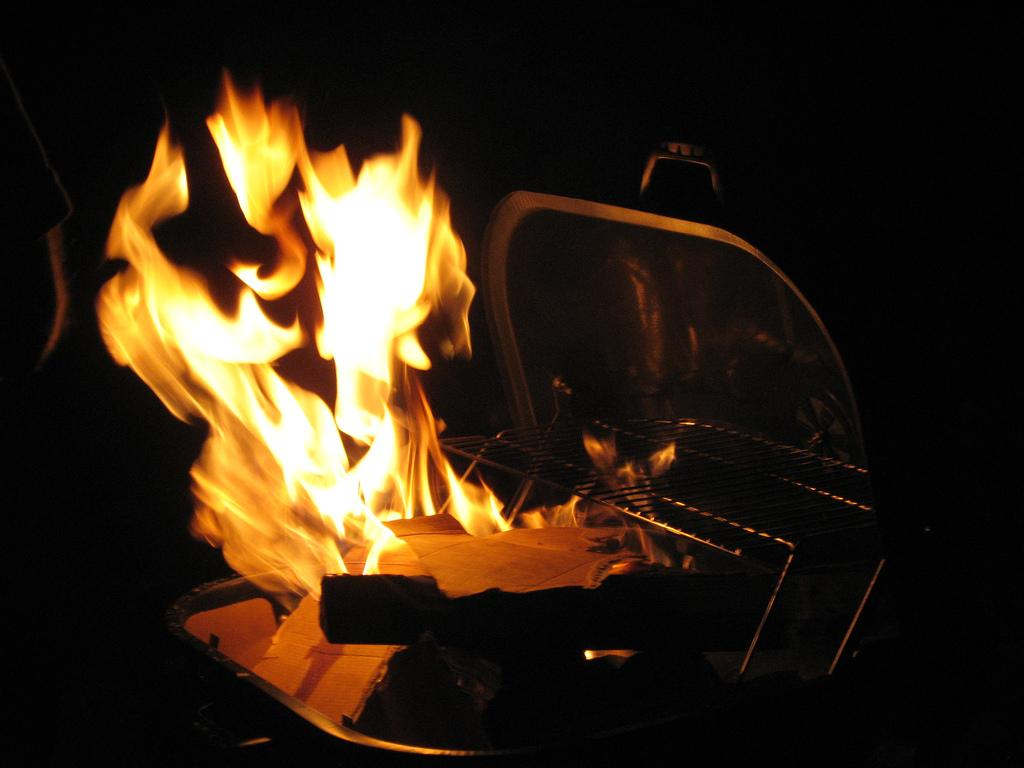fire: (322, 206, 412, 362), (266, 418, 356, 522), (178, 312, 250, 396)
